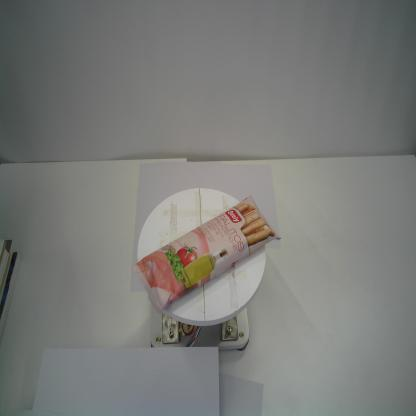Dessert: (131, 192, 282, 318)
